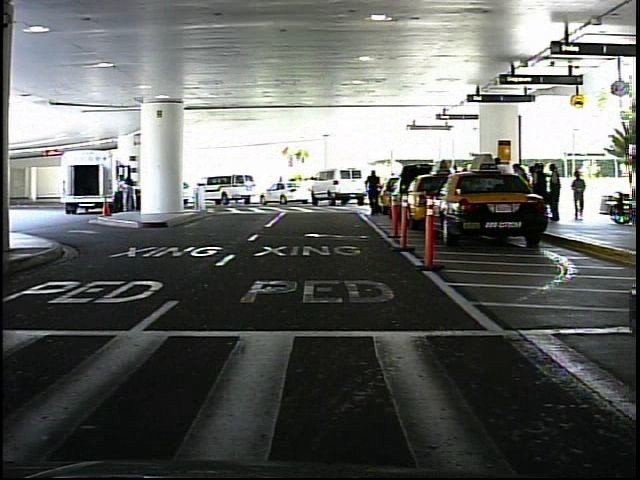person: (365, 168, 387, 219), (571, 171, 590, 224), (110, 174, 125, 215)
